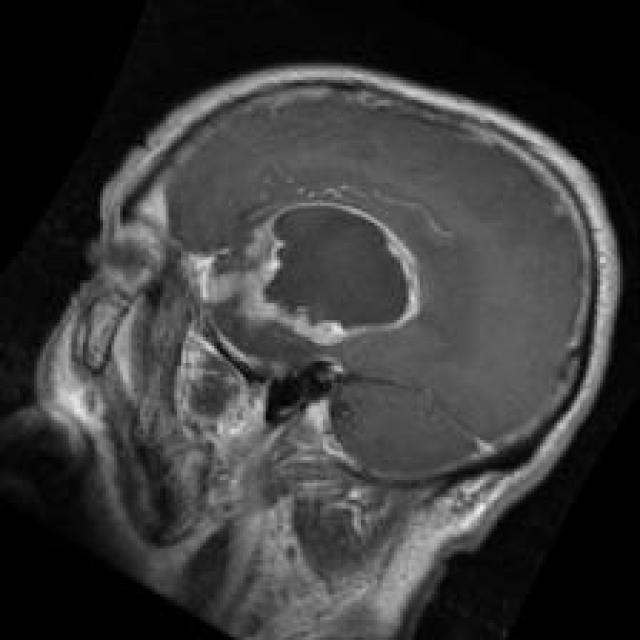glioma_tumor: (234, 182, 426, 358)
